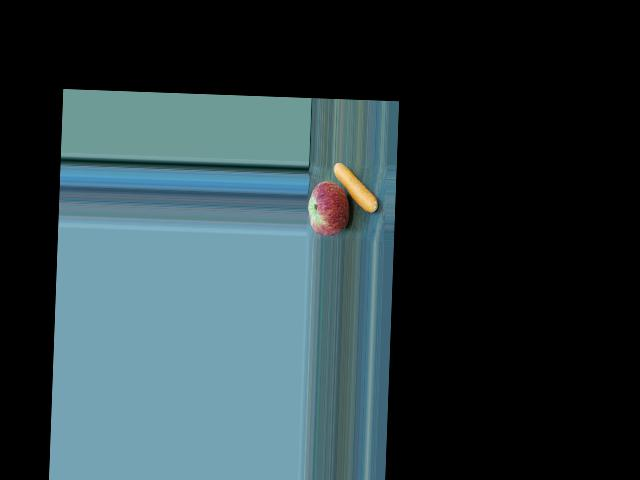carrot: (329, 162, 381, 219)
